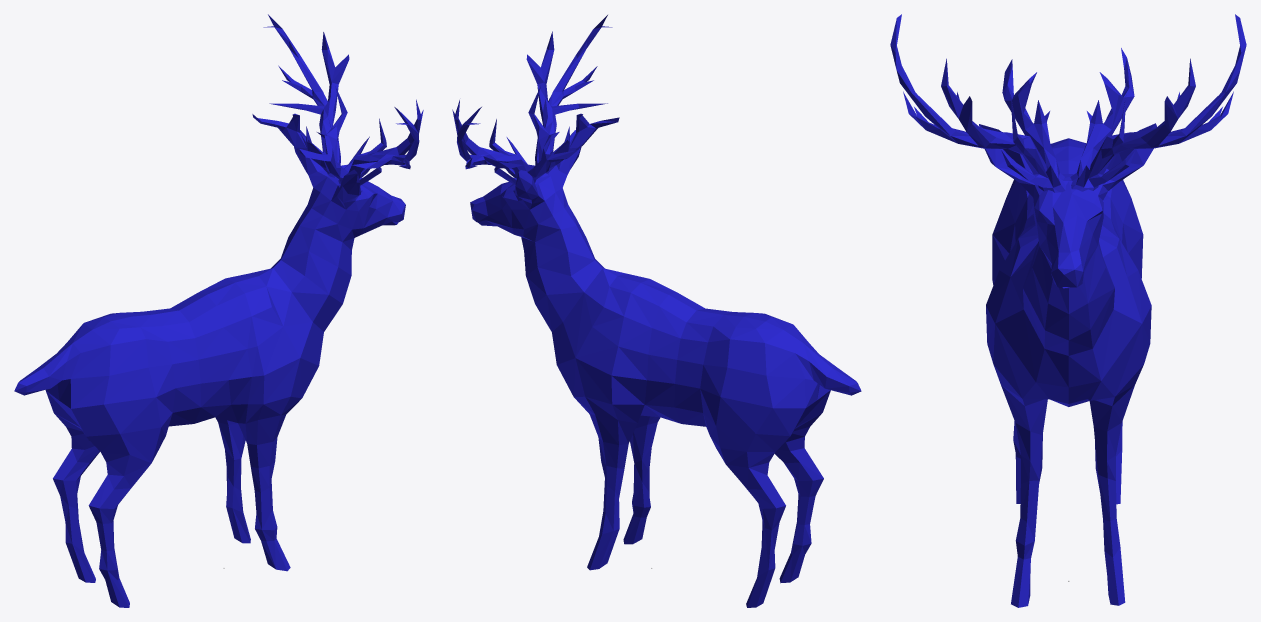
File: deer2.obj
3 views of the same model, side by side, from view 1: azimuth 30°, elevation 25°; view 2: azimuth 150°, elevation 25°; view 3: azimuth 270°, elevation 25° (orthographic). The views are drawn at different scales.
Visible parts, largest first — view 1: deer; view 2: deer; view 3: deer.
Boxes of the visible parts, bbox=[...] form: deer: bbox=[14, 14, 423, 607]; deer: bbox=[452, 15, 861, 607]; deer: bbox=[890, 14, 1246, 607].
Size of the model in its own units: 1230 by 1454 by 738.
